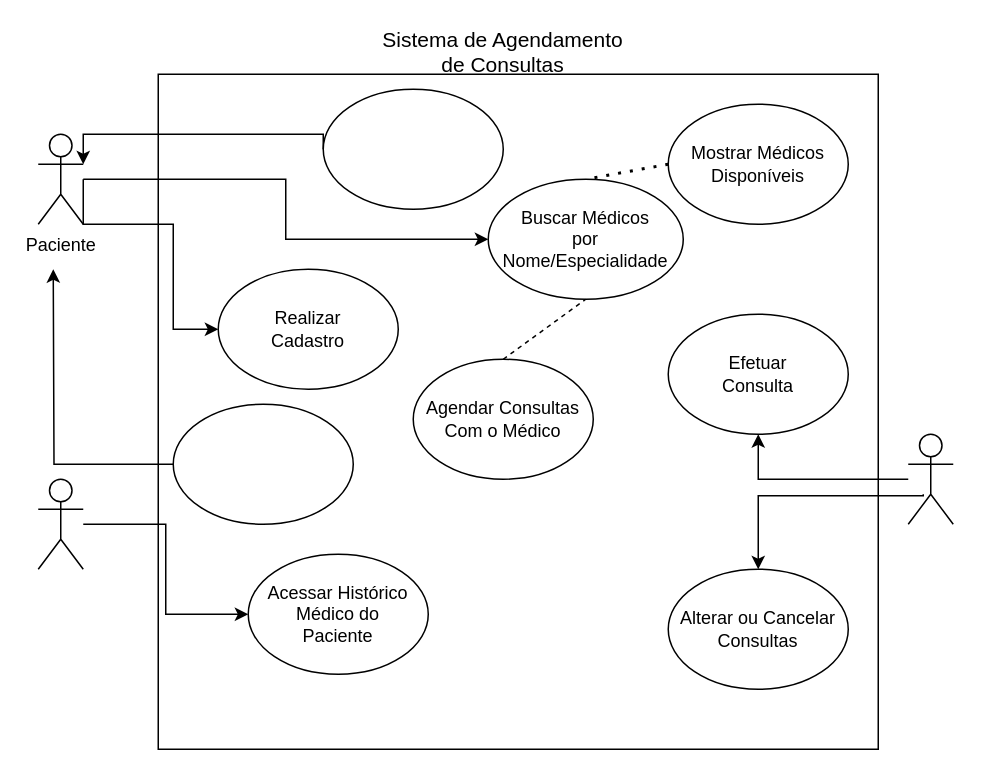
This 998x776 diagram has some shape labels left out. Each missing label, with the centre of its shape:
"Atendente" belongs at point 930,478.
"Enviar dados Sobre a Consulta" belongs at point 262,463.
"Listar Médicos especialistas disponíveis" belongs at point 412,148.
"Médico" belongs at point 60,523.
